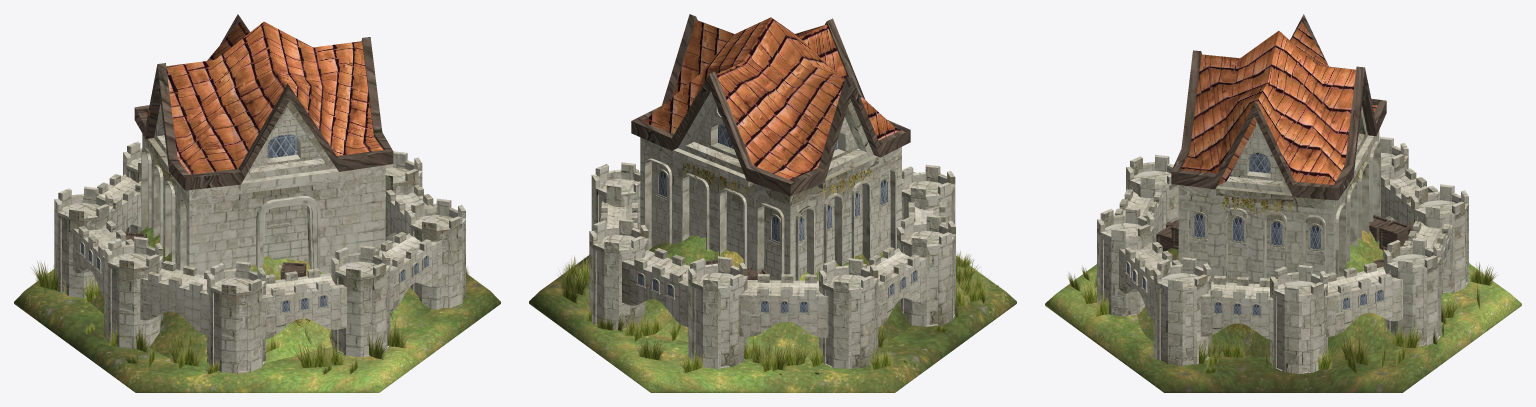
File: castle0.glb
3 renders of one model, left to right at view 1: azimuth 30°, elevation 25°; view 2: azimuth 150°, elevation 25°; view 3: azimuth 270°, elevation 25°, orthographic. The views are drawn at different scales.
Visible parts, largest first — view 1: castlezero; view 2: castlezero; view 3: castlezero.
Part boxes in pixels (x1,y1,x2,y2): castlezero: [14, 14, 500, 392]; castlezero: [529, 14, 1016, 392]; castlezero: [1045, 14, 1521, 392].
Bounding box in the file's own units: 1.73 × 1.28 × 2.
Materials: 4 (4 with a texture image).
